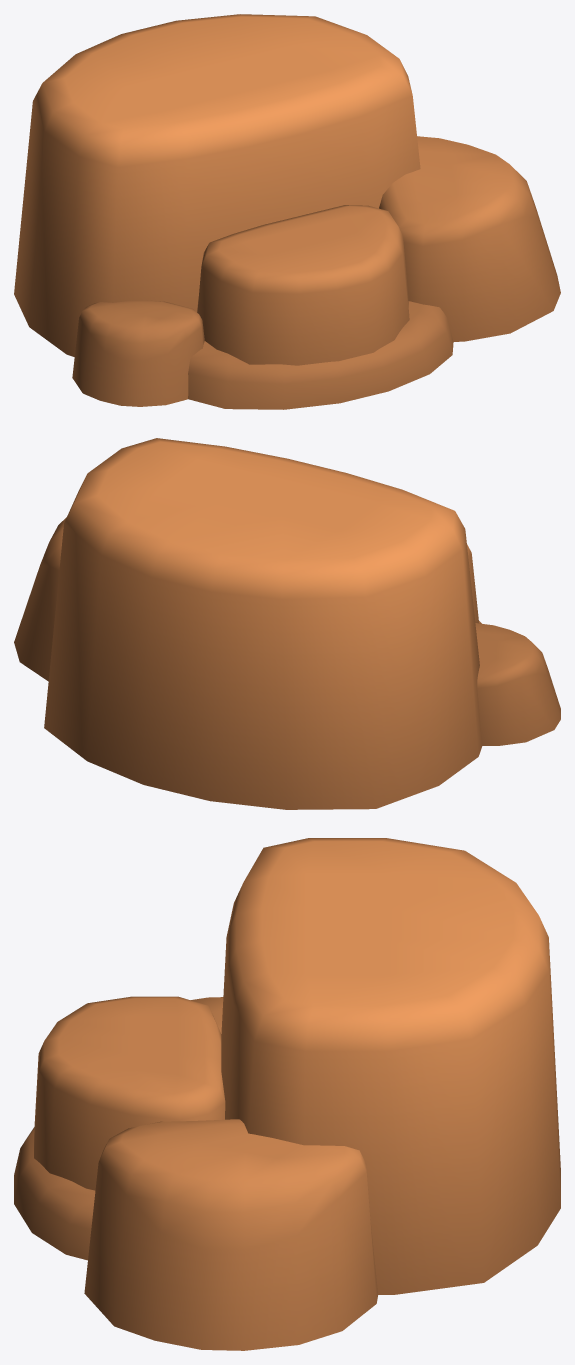
File: Rock_02_C.fbx
3 renders of one model, top to bottom at view 1: azimuth 30°, elevation 25°; view 2: azimuth 150°, elevation 25°; view 3: azimuth 270°, elevation 25°, orthographic. The views are drawn at different scales.
Visible parts, largest first — view 1: Rock_02_C; view 2: Rock_02_C; view 3: Rock_02_C.
Part boxes in pixels (x1,y1,x2,y2): Rock_02_C: (14,14,560,409); Rock_02_C: (14,438,560,809); Rock_02_C: (14,838,560,1350).
Size of the model in its own units: 6349 by 2765 by 5164.
